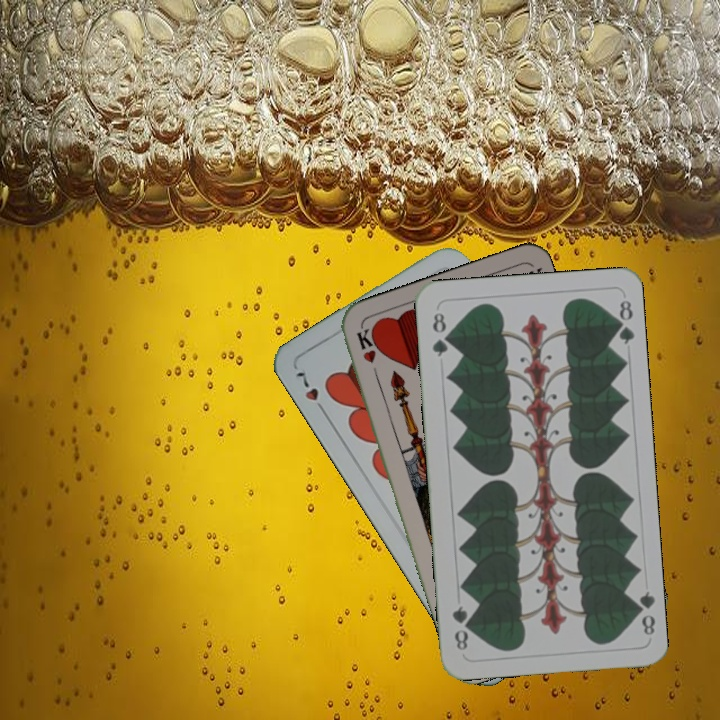G8: (629, 587, 658, 638), (428, 308, 452, 360)
H7: (291, 364, 329, 418)
HK: (353, 325, 382, 384)
